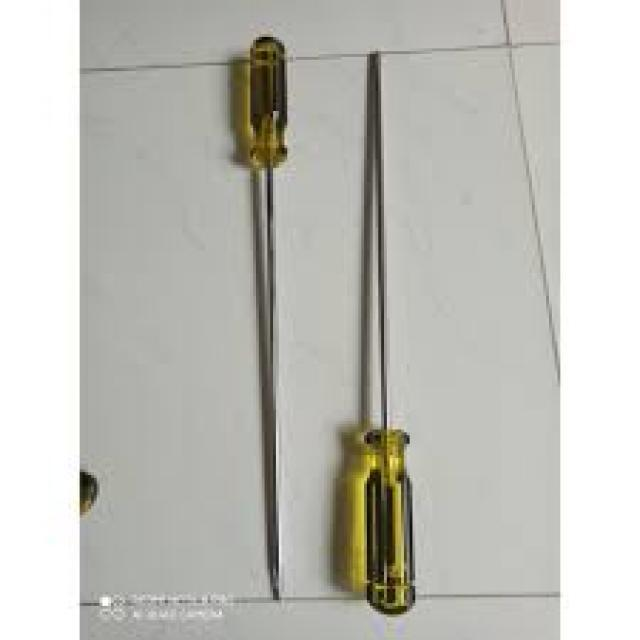screwdriver: (342, 46, 420, 614), (239, 31, 293, 609)
